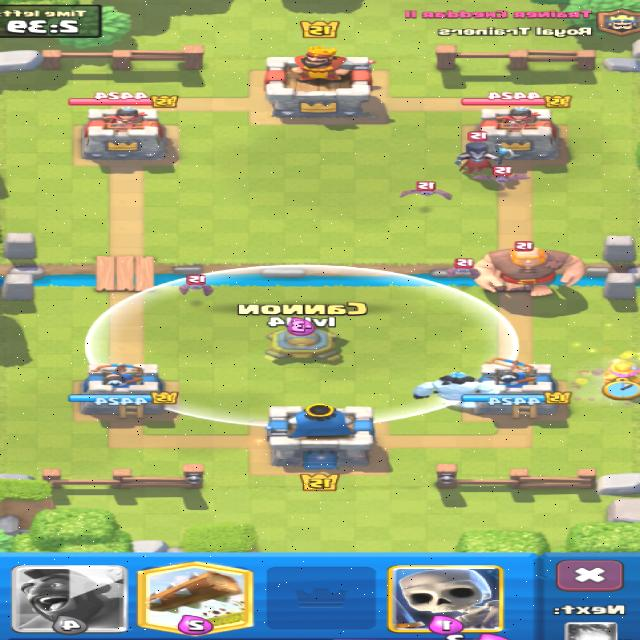Enemy-Bat: (474, 165, 530, 183), (181, 275, 214, 296), (447, 259, 479, 278), (401, 189, 451, 199)
Enemy-Giant: (477, 245, 584, 296)
Enemy-KingTower: (266, 46, 373, 116)
Enemy-NightWitch: (455, 142, 514, 169)
Enemy-PrincessTower: (82, 107, 170, 165), (477, 106, 558, 163)
Player-IceGolem: (414, 372, 497, 400)
Player-KingTower: (267, 403, 374, 469)
Player-Musketeer: (604, 359, 640, 383)
Player-PrincessTower: (462, 358, 571, 418), (70, 365, 165, 418)
